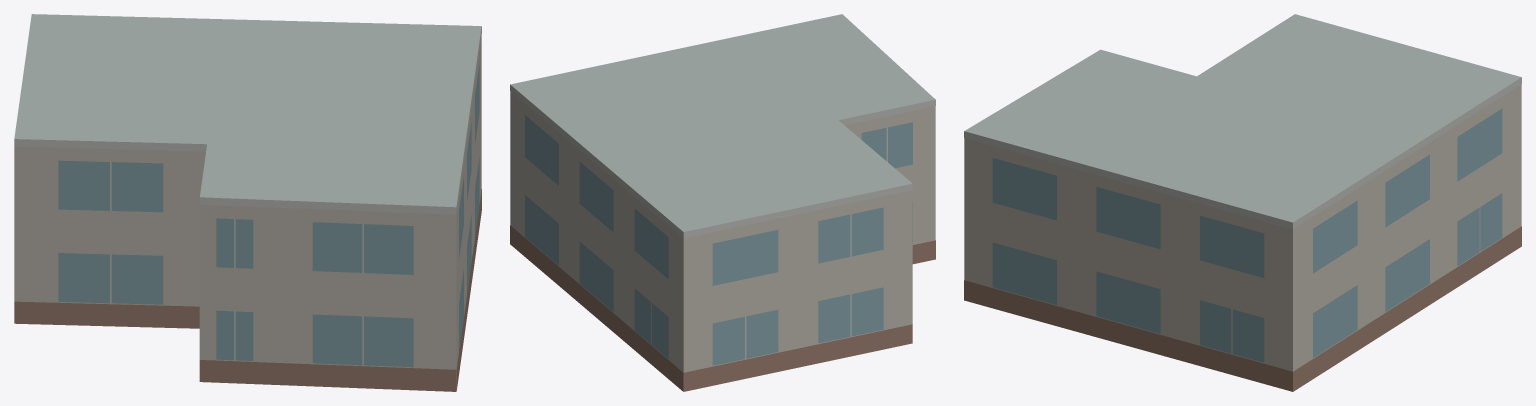
The model's file is survey-upis-32678639.glb.
3 views of the same model, side by side, from view 1: azimuth 30°, elevation 25°; view 2: azimuth 150°, elevation 25°; view 3: azimuth 270°, elevation 25° (orthographic). The views are drawn at different scales.
Parts seen in each view (by area): view 1: survey-upis-32678639.tmp; view 2: survey-upis-32678639.tmp; view 3: survey-upis-32678639.tmp.
Boxes of the visible parts, <box> form: survey-upis-32678639.tmp: <box>14,14,481,391</box>; survey-upis-32678639.tmp: <box>510,14,935,391</box>; survey-upis-32678639.tmp: <box>964,14,1521,391</box>.
Size of the model in its own units: 16.13 by 6.1 by 18.22.
